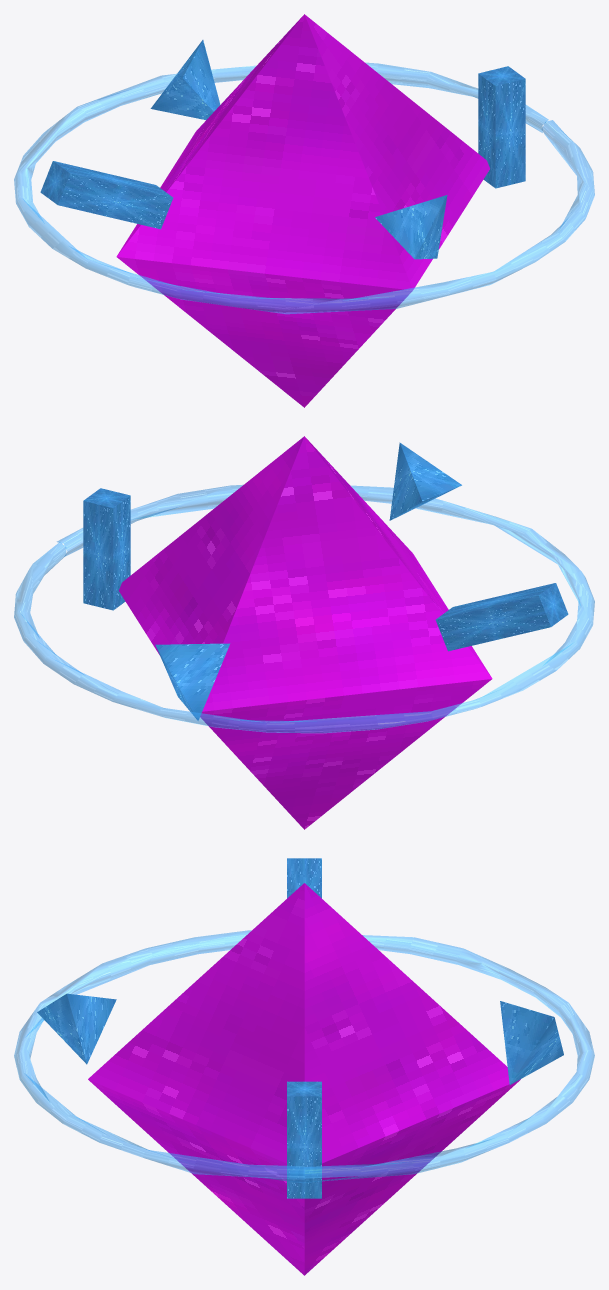
File: sci-fi-anomaly-a.collider.glb
3 renders of one model, top to bottom at view 1: azimuth 30°, elevation 25°; view 2: azimuth 150°, elevation 25°; view 3: azimuth 270°, elevation 25°, orthographic.
Parts seen in each view (by area): view 1: shell, ring, orbital-0; view 2: shell, orbital-0, ring; view 3: shell, ring, orbital-0.
Part boxes in pixels (x1,y1,x2,y2): shell: (116,14,489,407); ring: (14,62,594,314); orbital-0: (40,40,525,259); shell: (119,436,492,829); orbital-0: (83,442,568,720); ring: (14,485,594,733); shell: (88,883,520,1275); ring: (14,930,594,1183); orbital-0: (37,858,563,1198).
Bounding box in the file's own units: 2.7 × 2 × 2.68.
3 materials, 3 textured.
